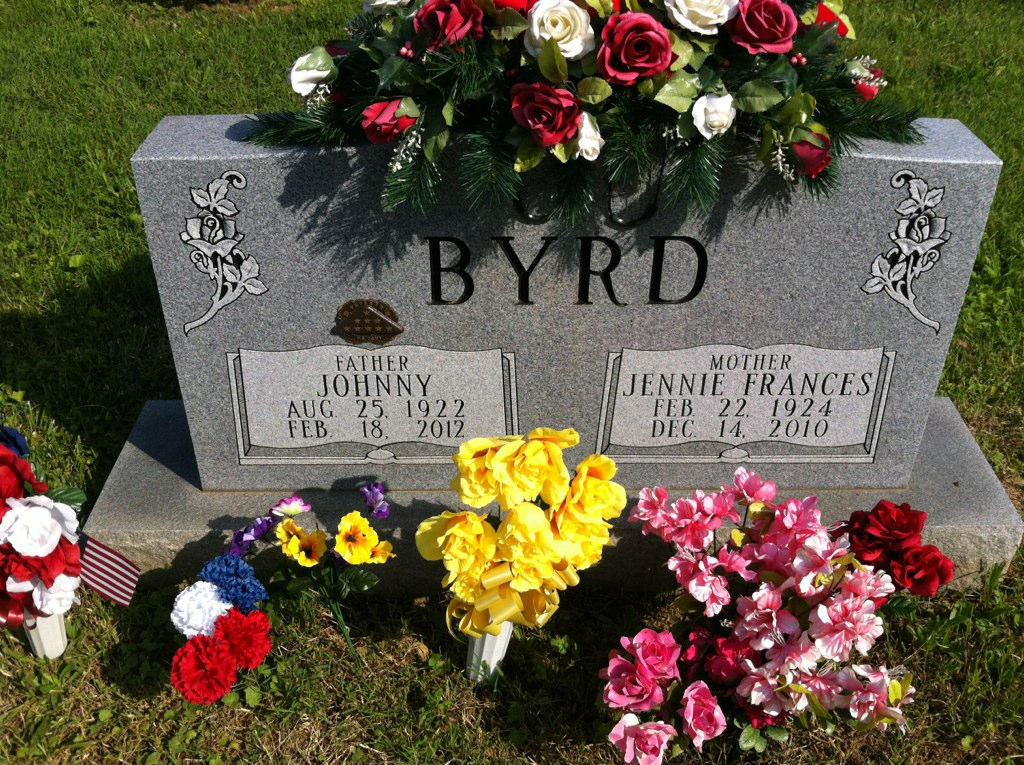upright: (91, 94, 1022, 597)
